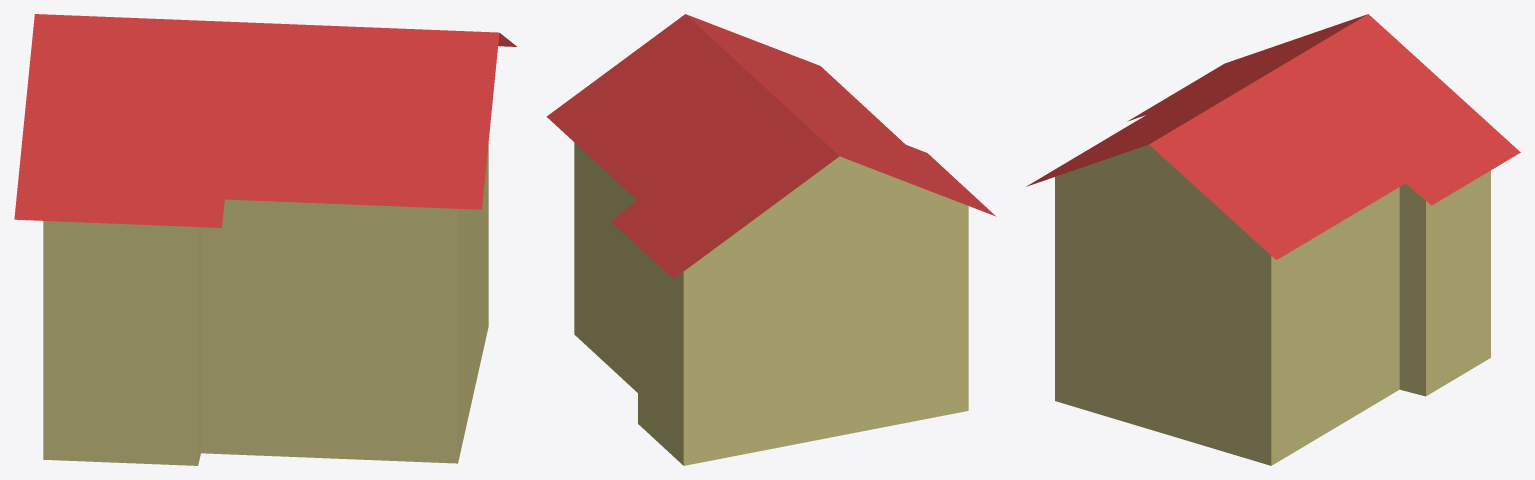
Rendered from building3d.dae.
3 views of the same model, side by side, from view 1: azimuth 30°, elevation 25°; view 2: azimuth 150°, elevation 25°; view 3: azimuth 270°, elevation 25° (orthographic). The views are drawn at different scales.
Visible parts, largest first — view 1: group_5, group_3, group_4; view 2: group_5, group_3, group_4; view 3: group_5, group_3, group_4.
Part boxes in pixels (x1=…): group_5: x1=43, y1=144, x2=488, y2=465; group_3: x1=14, y1=14, x2=498, y2=227; group_4: x1=14, y1=14, x2=516, y2=222; group_5: x1=574, y1=143, x2=968, y2=465; group_3: x1=546, y1=14, x2=995, y2=256; group_4: x1=611, y1=14, x2=995, y2=278; group_5: x1=1055, y1=144, x2=1490, y2=465; group_3: x1=1056, y1=14, x2=1490, y2=259; group_4: x1=1026, y1=14, x2=1520, y2=205.
Size of the model in its own units: 17.5 by 17.3 by 11.39.
